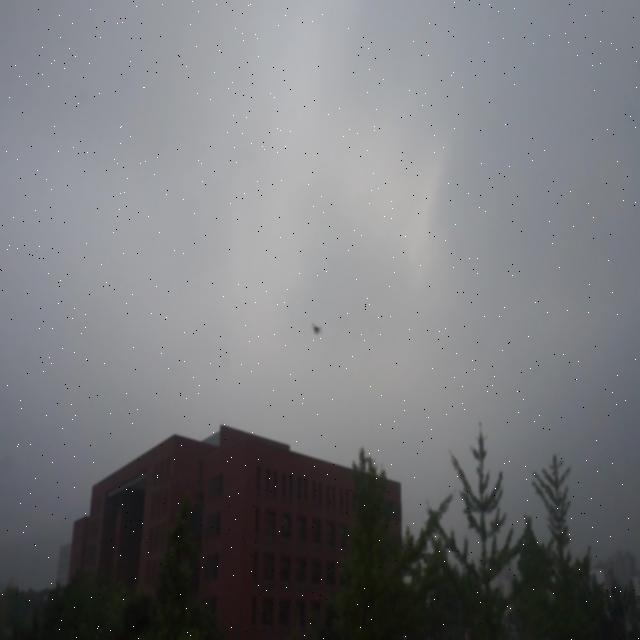UAV: (311, 323, 323, 335)
